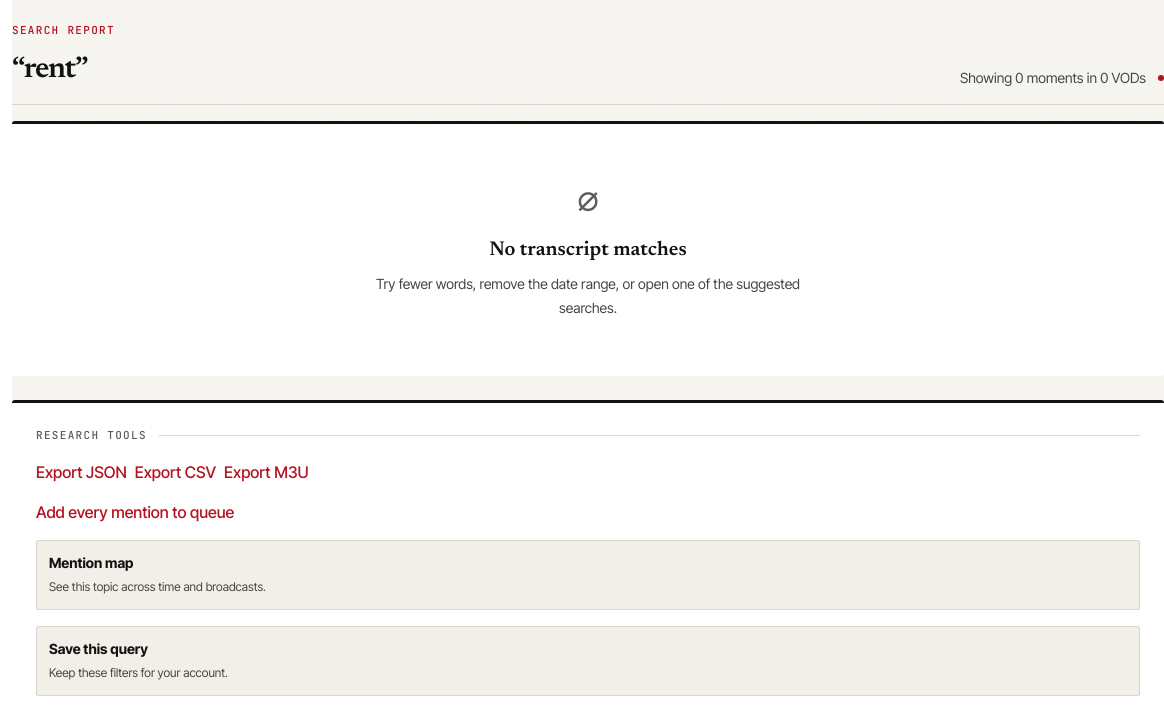
SearchPage › exports and queues every matching mention
(page scrolled)
Step 1. Click the button "Add every mention to queue" → [135, 512], box left=36, top=500, right=234, bottom=524
(page scrolled)
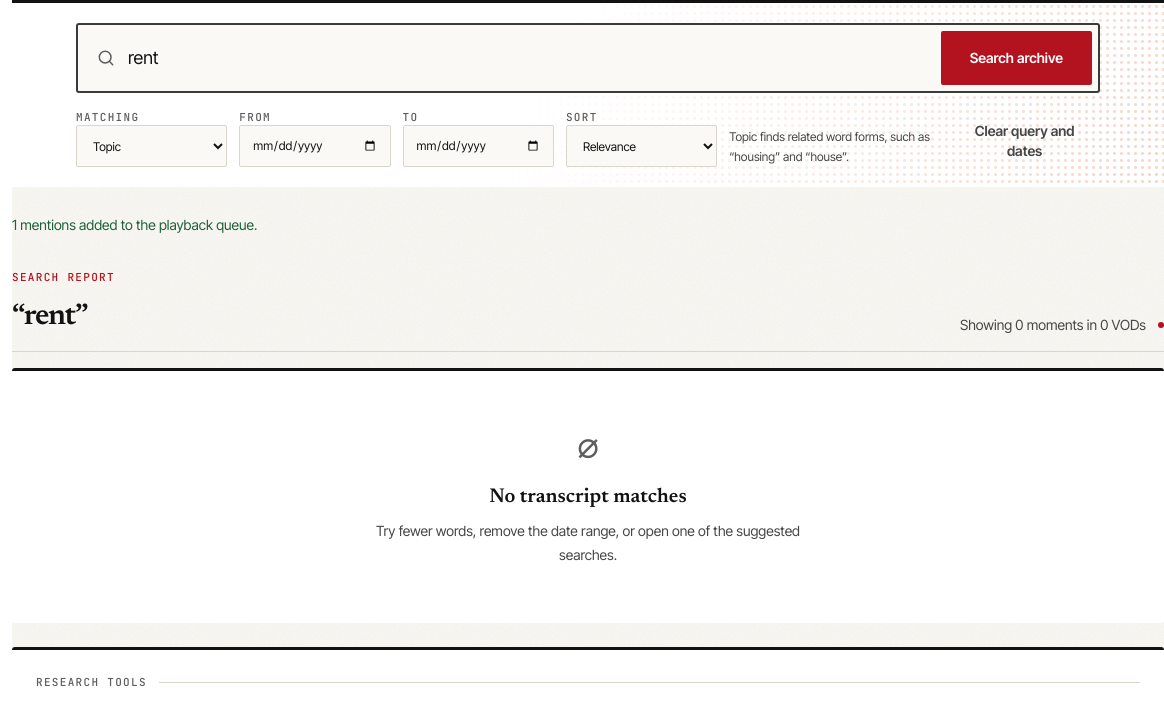
expect the message shows "1 mentions added": met, box left=12, top=216, right=257, bottom=233
